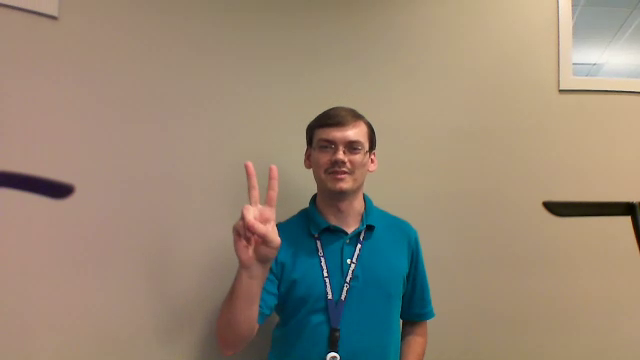peace: (216, 158, 290, 271)
